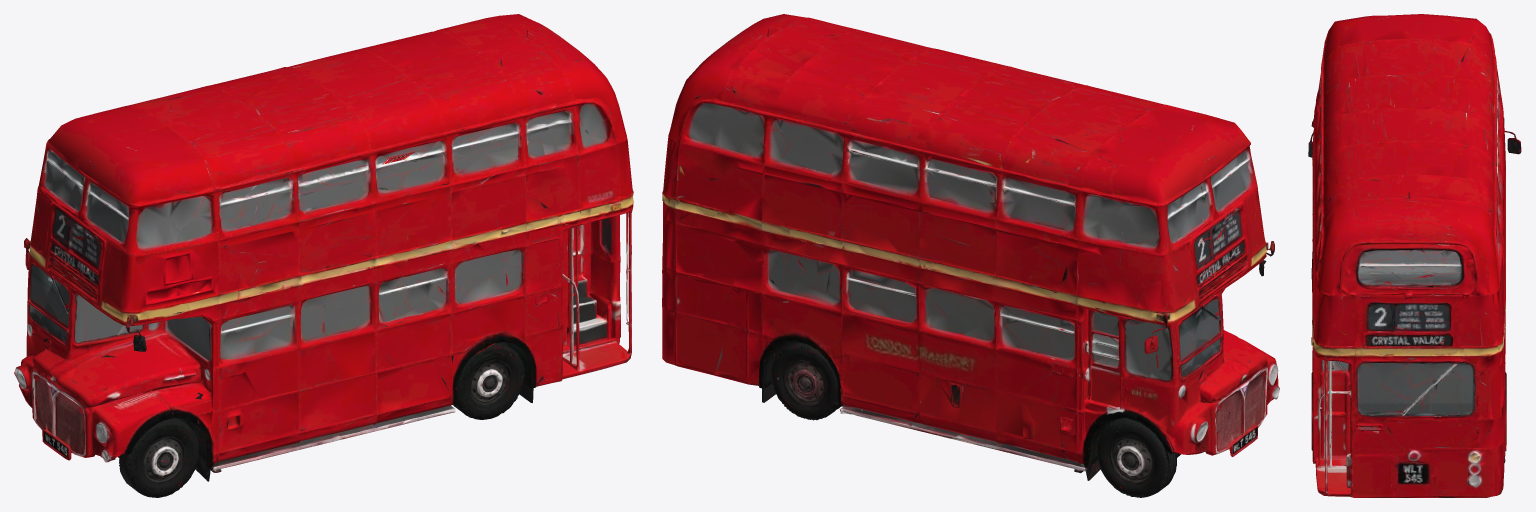
The model's file is bus-SHRINK.glb.
3 views of the same model, side by side, from view 1: azimuth 30°, elevation 25°; view 2: azimuth 150°, elevation 25°; view 3: azimuth 270°, elevation 25° (orthographic). The views are drawn at different scales.
Parts seen in each view (by area): view 1: object 1, Wheel_FL, Wheel_RL; view 2: object 1, Wheel_FR, Wheel_RR; view 3: object 1.
Part boxes in pixels (x1,y1,x2,y2): object 1: (14,14,633,490); Wheel_FL: (119,418,198,497); Wheel_RL: (453,342,530,419); object 1: (662,14,1279,492); Wheel_FR: (1090,417,1176,497); Wheel_RR: (764,342,840,420); object 1: (1308,14,1521,497).
Bounding box in the file's own units: 1.9 × 1.12 × 0.7188.
1 material, 1 textured.
